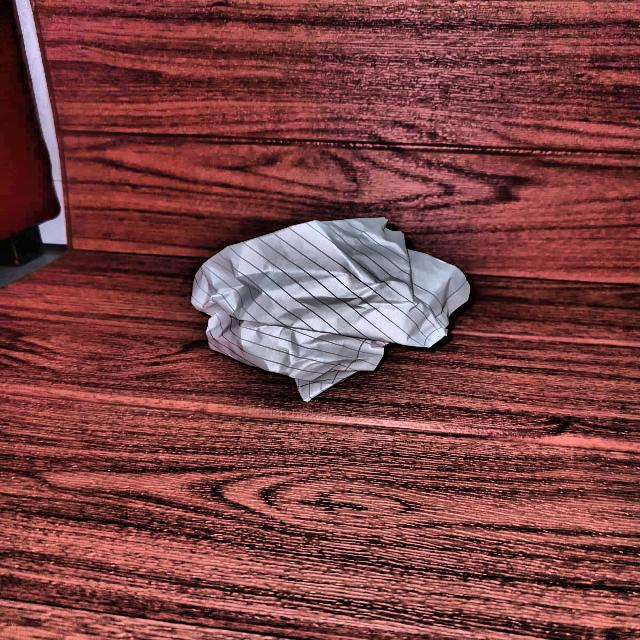Paper: (171, 215, 473, 395)
